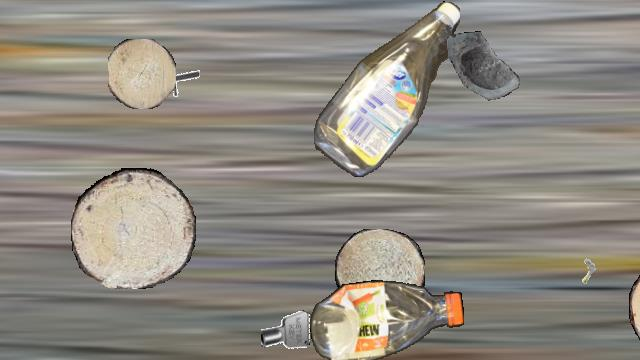glass: (447, 31, 529, 113)
metal: (261, 306, 311, 356), (566, 255, 606, 295), (162, 61, 200, 99)
plastic: (314, 1, 460, 177), (310, 279, 464, 359)
wood: (71, 168, 195, 288), (335, 229, 425, 313), (108, 39, 176, 109), (629, 257, 640, 359)
